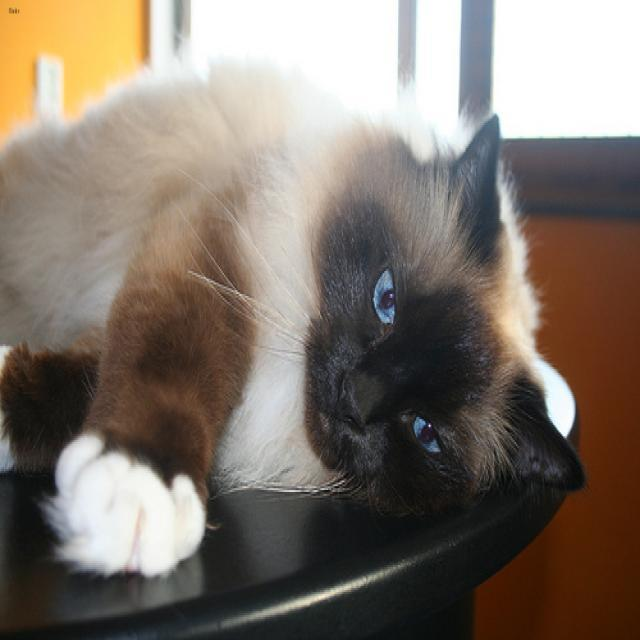Birman: (252, 104, 589, 512)
